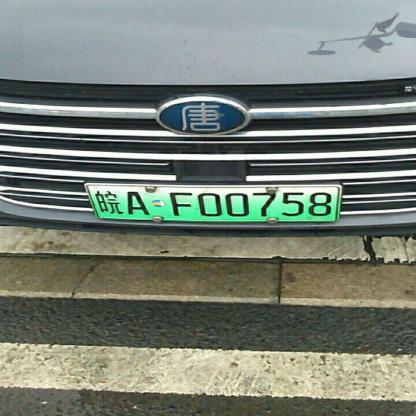lp: (86, 185, 338, 219)
